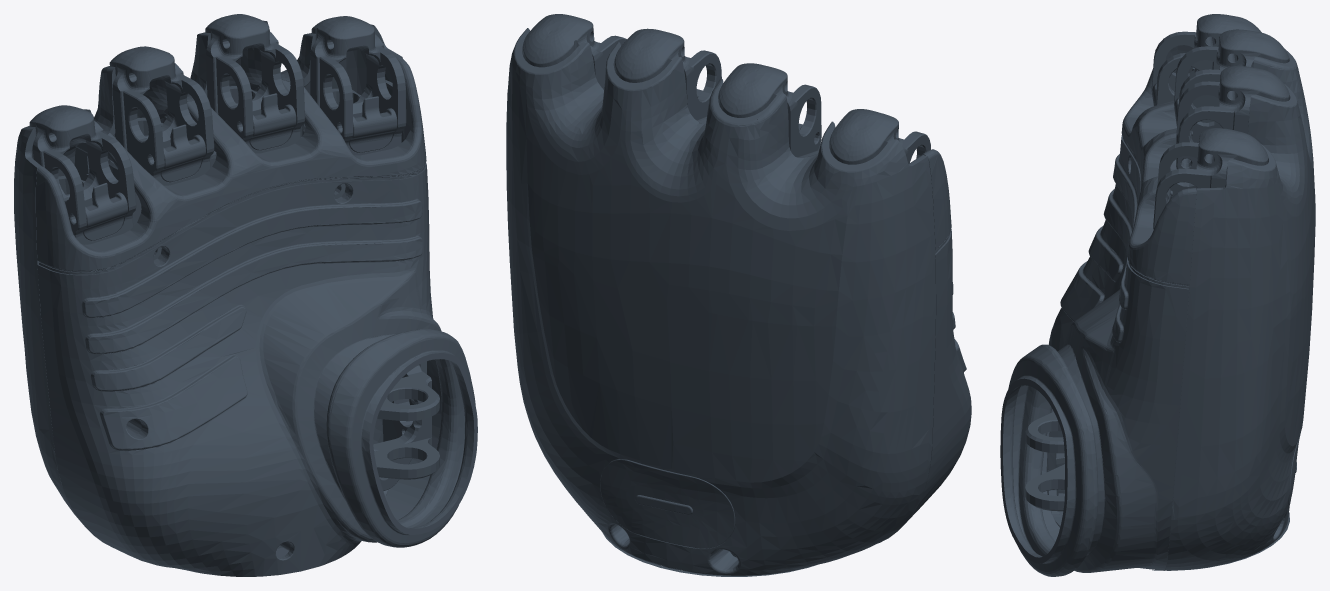
The model's file is hand_base_link.glb.
3 renders of one model, left to right at view 1: azimuth 30°, elevation 25°; view 2: azimuth 150°, elevation 25°; view 3: azimuth 270°, elevation 25°, orthographic. The views are drawn at different scales.
Parts seen in each view (by area): view 1: hand_base_link; view 2: hand_base_link; view 3: hand_base_link.
Boxes of the visible parts, x1,y1,x2,y2 form: hand_base_link: (14,14,477,576); hand_base_link: (506,14,971,576); hand_base_link: (1000,14,1315,576).
Bounding box in the file's own units: 0.0884 × 0.1024 × 0.063.
